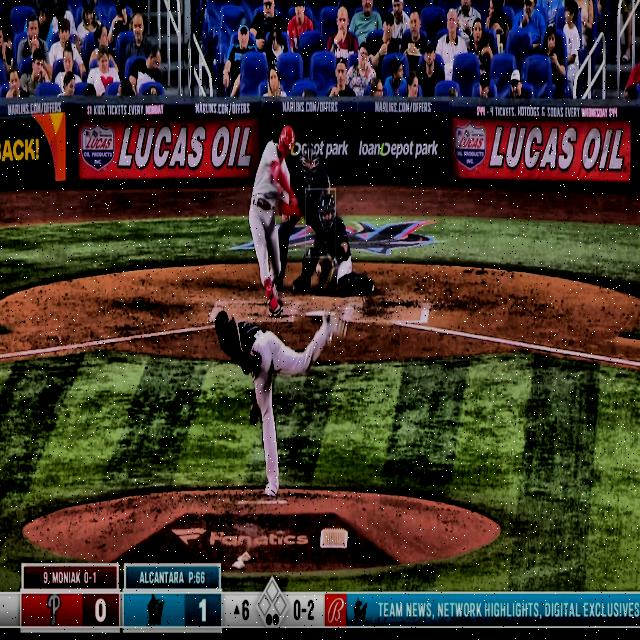baseball: (316, 263, 322, 275)
